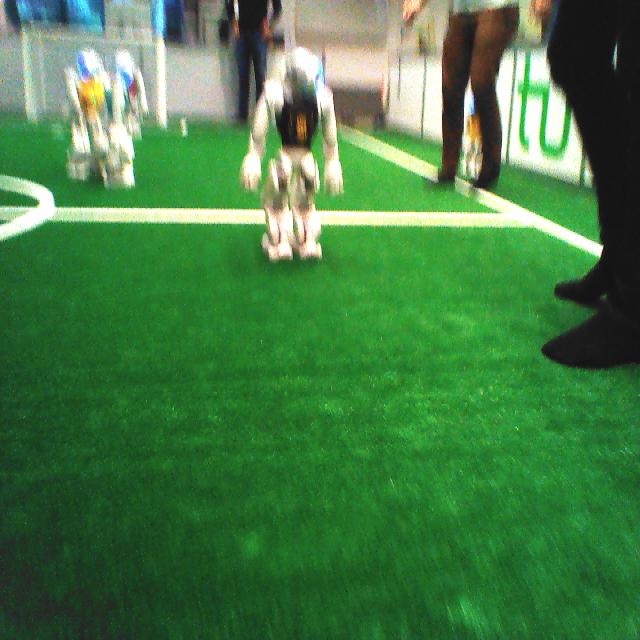goalpost: (20, 29, 37, 119), (153, 38, 166, 126)
